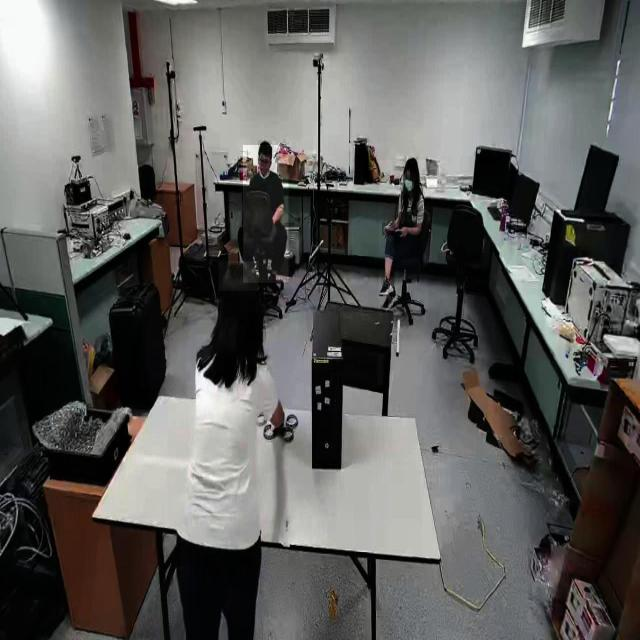face_mask: (401, 172, 416, 195)
face_nomask: (257, 156, 271, 175)
hand_noglove: (382, 222, 396, 236), (399, 224, 409, 238)
head_nohelmet: (219, 262, 259, 292), (403, 156, 419, 172), (258, 140, 272, 156)
person: (181, 266, 287, 639), (379, 160, 429, 316), (243, 145, 289, 283)
shoes: (381, 280, 399, 314), (379, 276, 395, 298)
